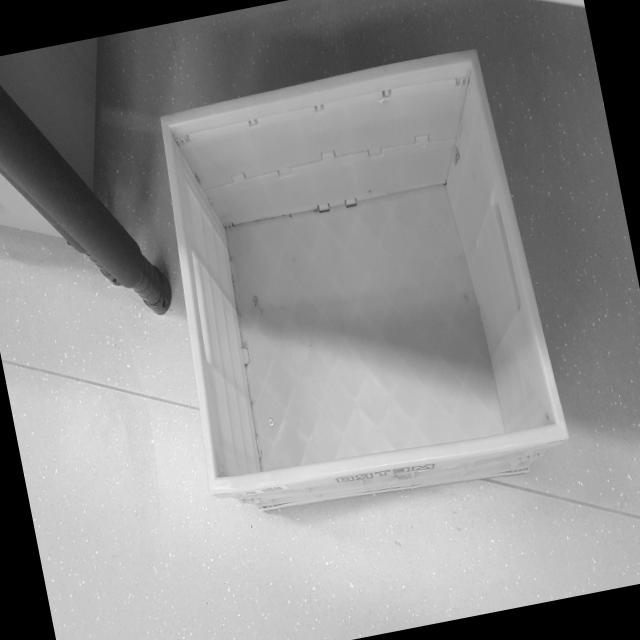box: (127, 24, 594, 571)
